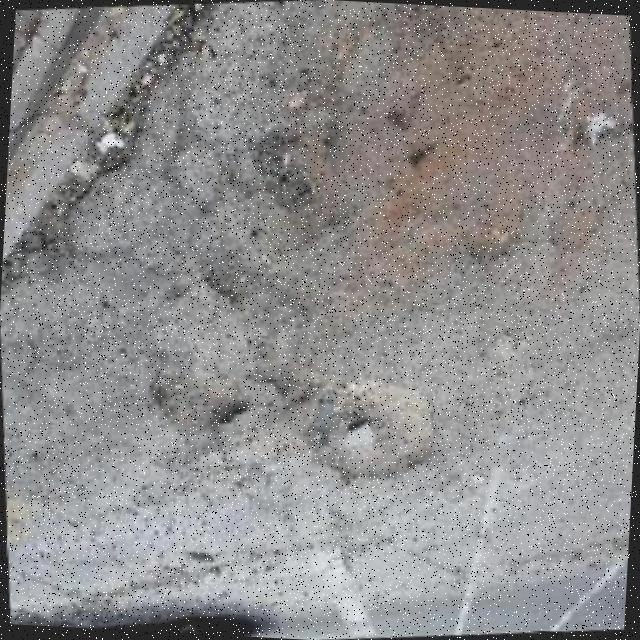Pothole: (312, 381, 434, 486), (146, 365, 266, 435)
